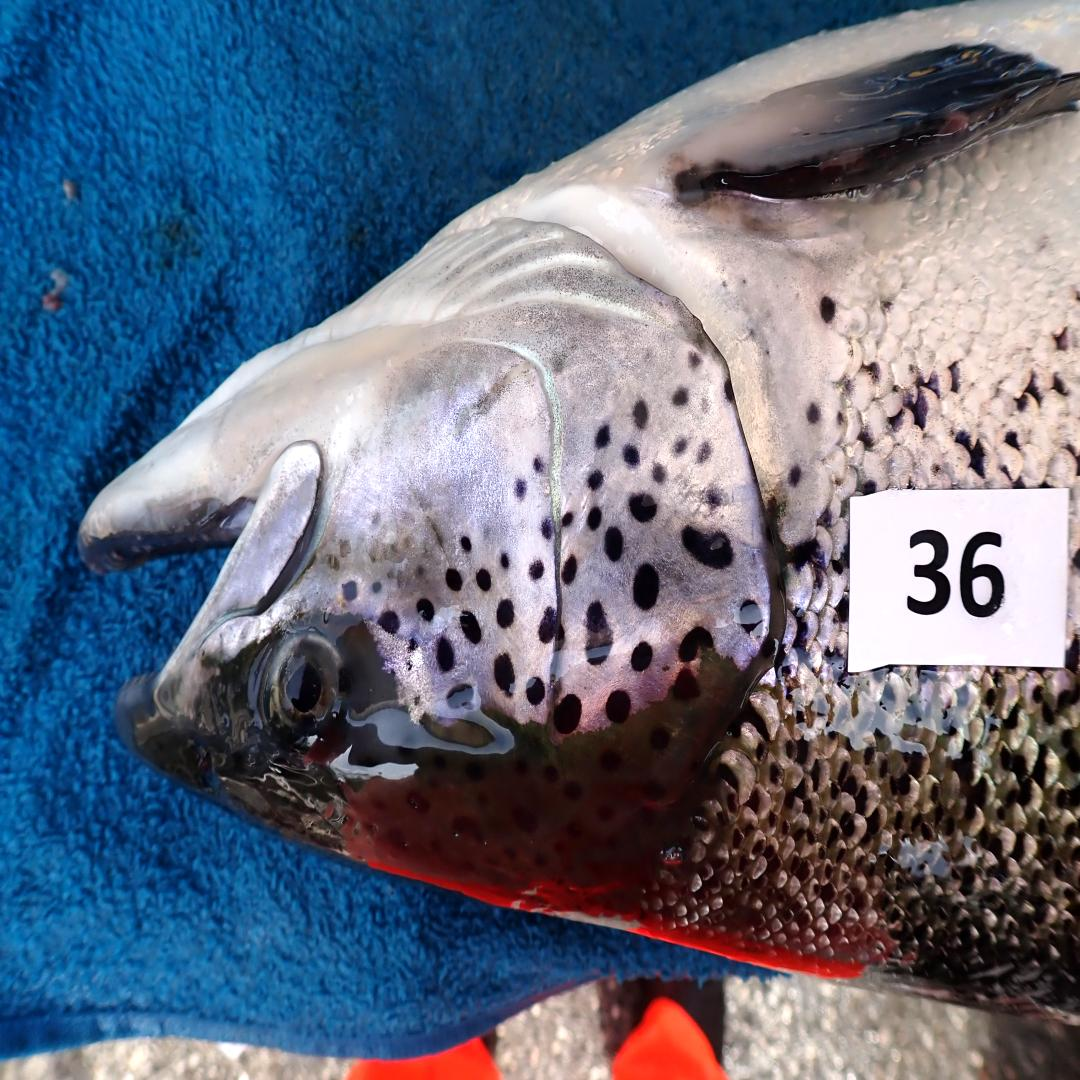roi: (320, 214, 774, 742)
